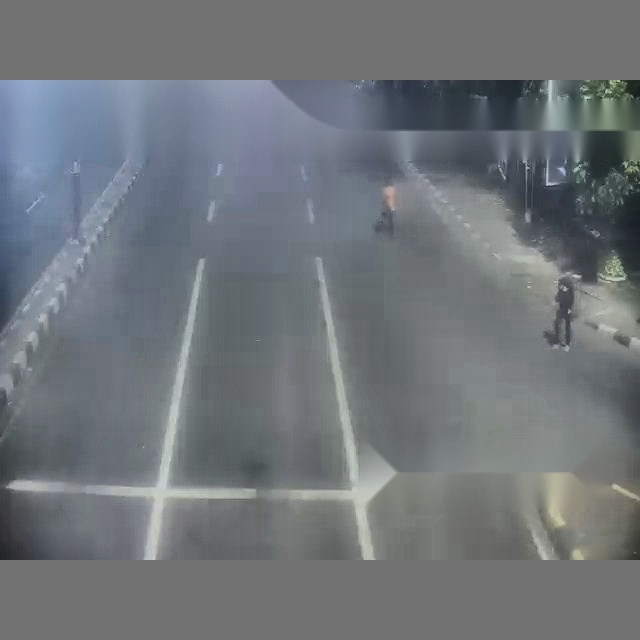Bis: (0, 80, 432, 489)
